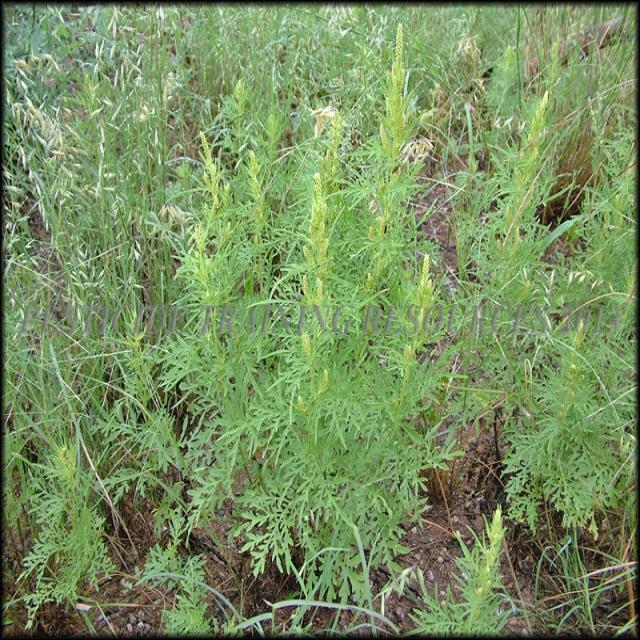ambrosia: (255, 142, 378, 528), (458, 67, 586, 333), (510, 332, 623, 526), (355, 18, 450, 218), (29, 436, 105, 614), (425, 513, 531, 640), (390, 240, 451, 387)
